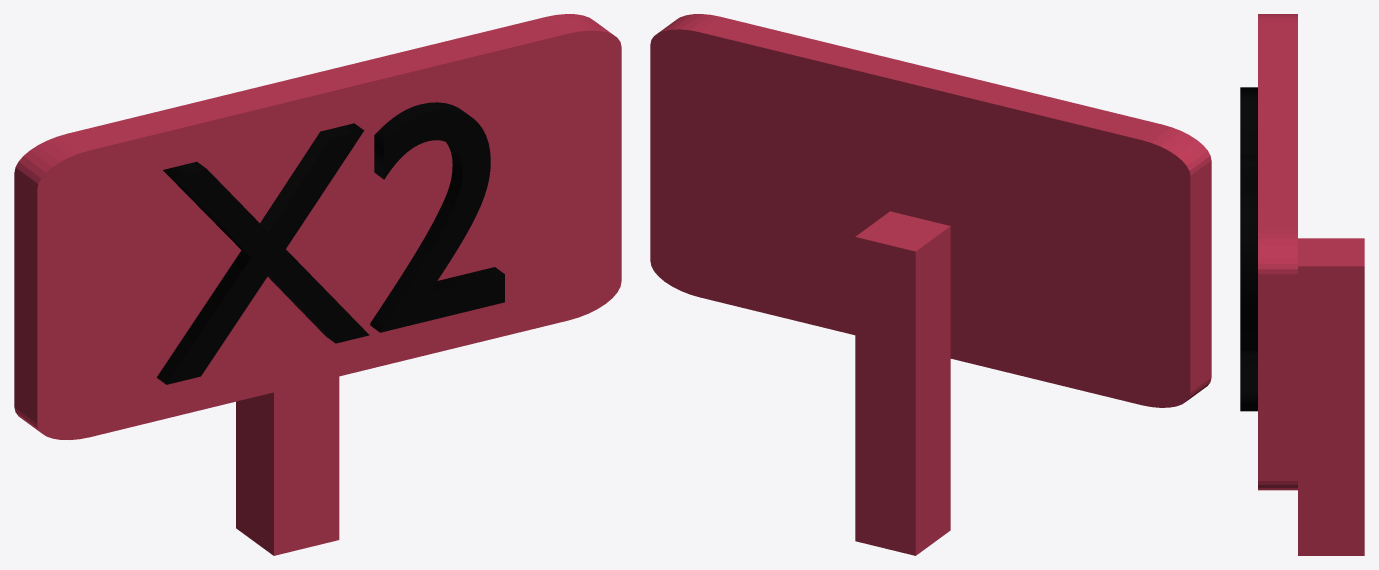
Rendered from End Score Sign X2.fbx.
The picture shows the model from 3 angles, left to right: view 1: azimuth 30°, elevation 25°; view 2: azimuth 150°, elevation 25°; view 3: azimuth 270°, elevation 25°; orthographic projection. The views are drawn at different scales.
Visible parts, largest first — view 1: Sign X2, Text; view 2: Sign X2; view 3: Sign X2, Text.
Part boxes in pixels (box(x1,y1,x2,y2)): Sign X2: box(14, 14, 621, 555); Text: box(157, 102, 504, 384); Sign X2: box(650, 14, 1211, 555); Sign X2: box(1258, 14, 1364, 555); Text: box(1240, 87, 1257, 411).
Size of the model in its own units: 595 by 460 by 124.
